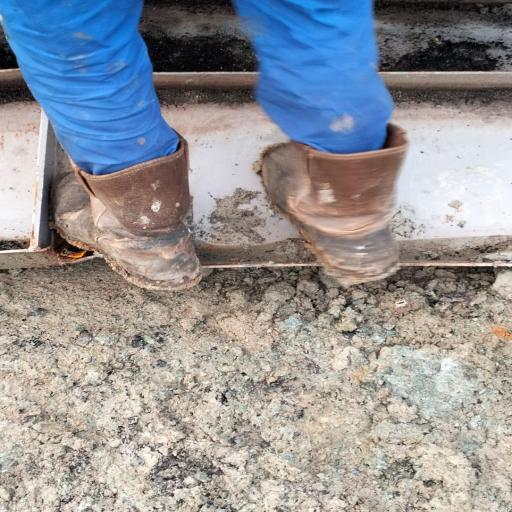safety_shoe: (44, 153, 208, 292), (256, 136, 410, 276)
